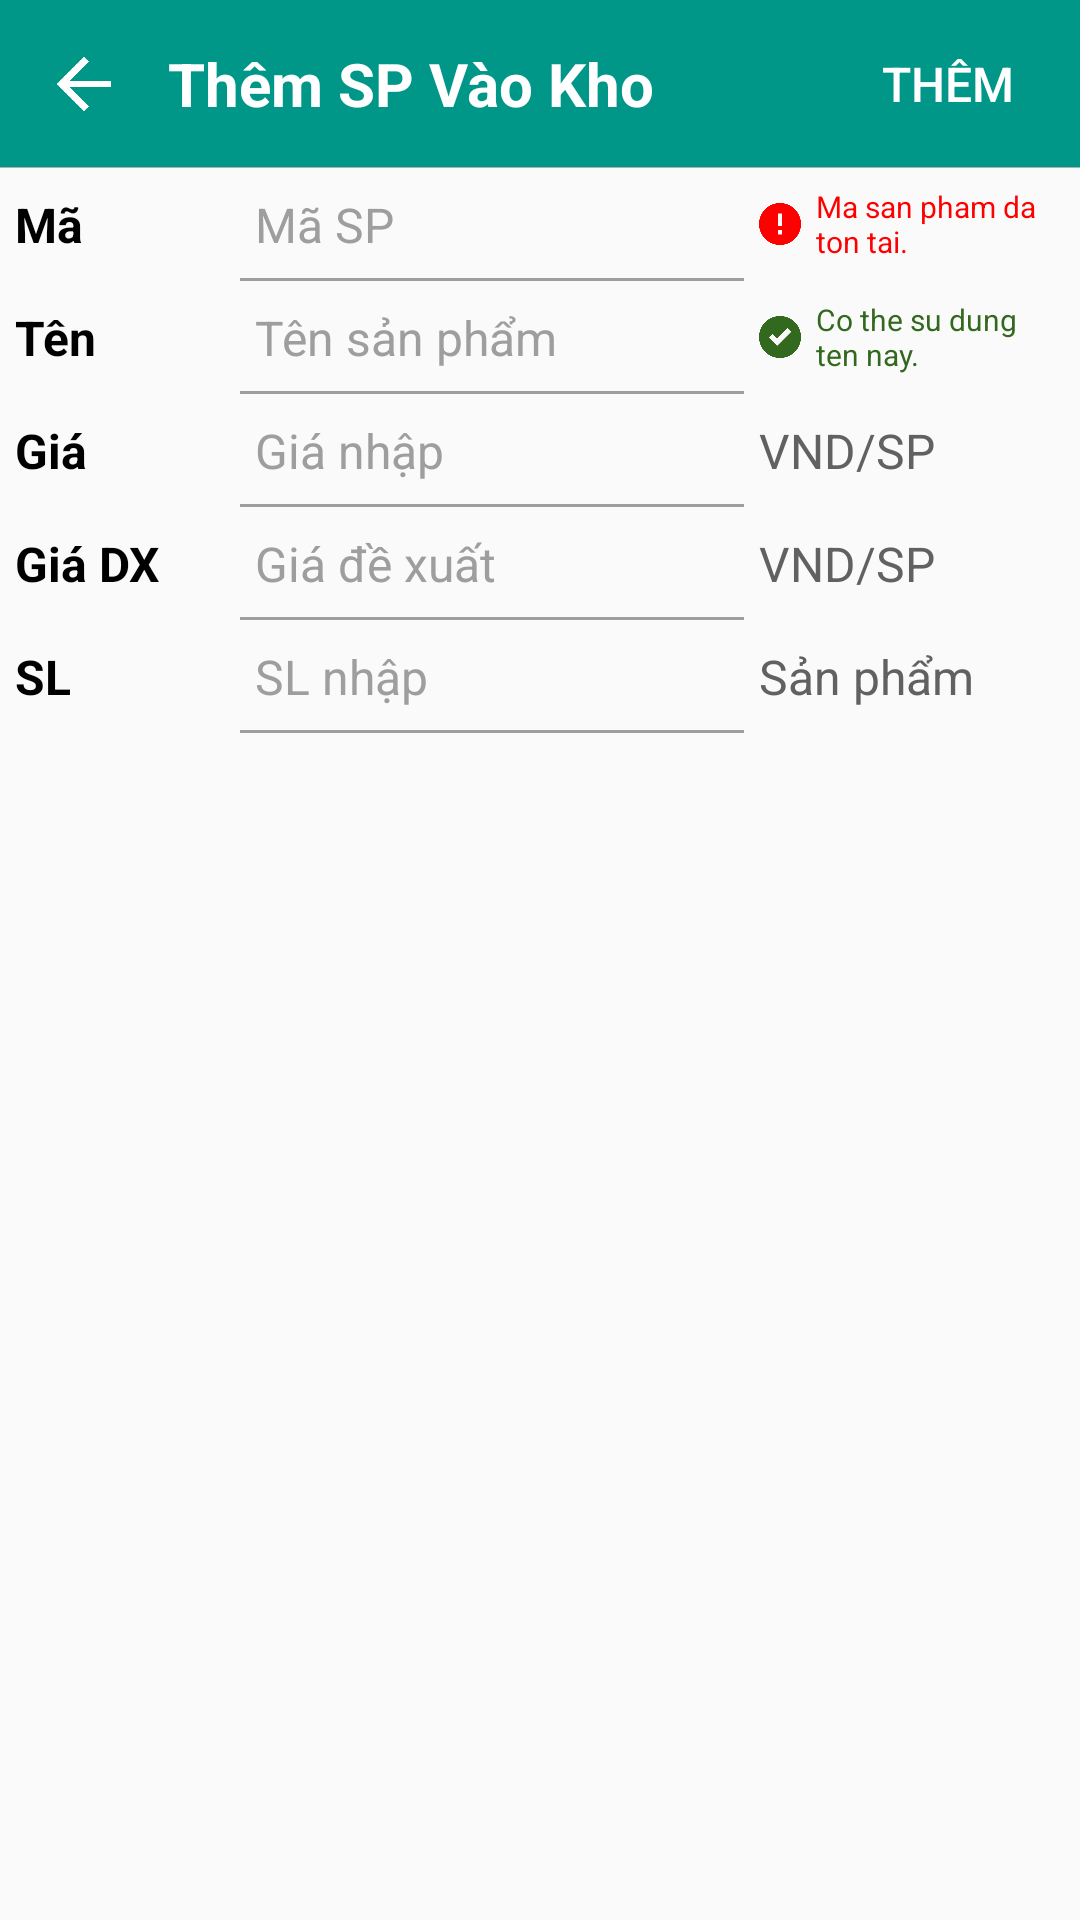

Named icons in this screenshot (1080 × 1920) and their bounding boxes, (left=x1, top=y1, right=x2, bottom=y2):
back: (left=57, top=57, right=111, bottom=111)
success: (left=759, top=316, right=801, bottom=358)
warning: (left=759, top=203, right=801, bottom=245)
